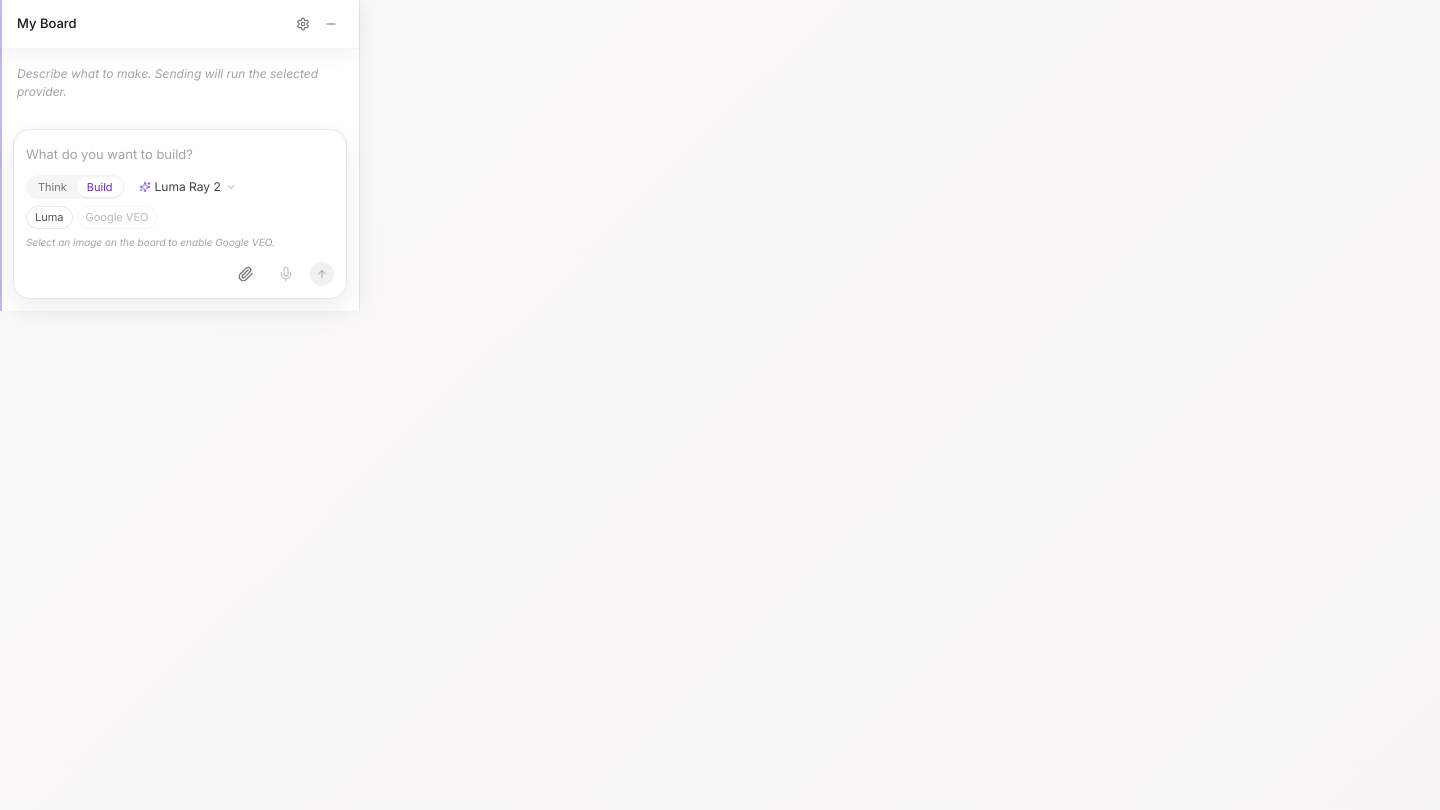
it: ChatPanel chat history cap (owner-only settings) › disables the input and Save button while a save is in flight
Click the button with test id "button-chat-settings" at x=303, y=24, box top-left (291, 12), bottom-right (315, 36)
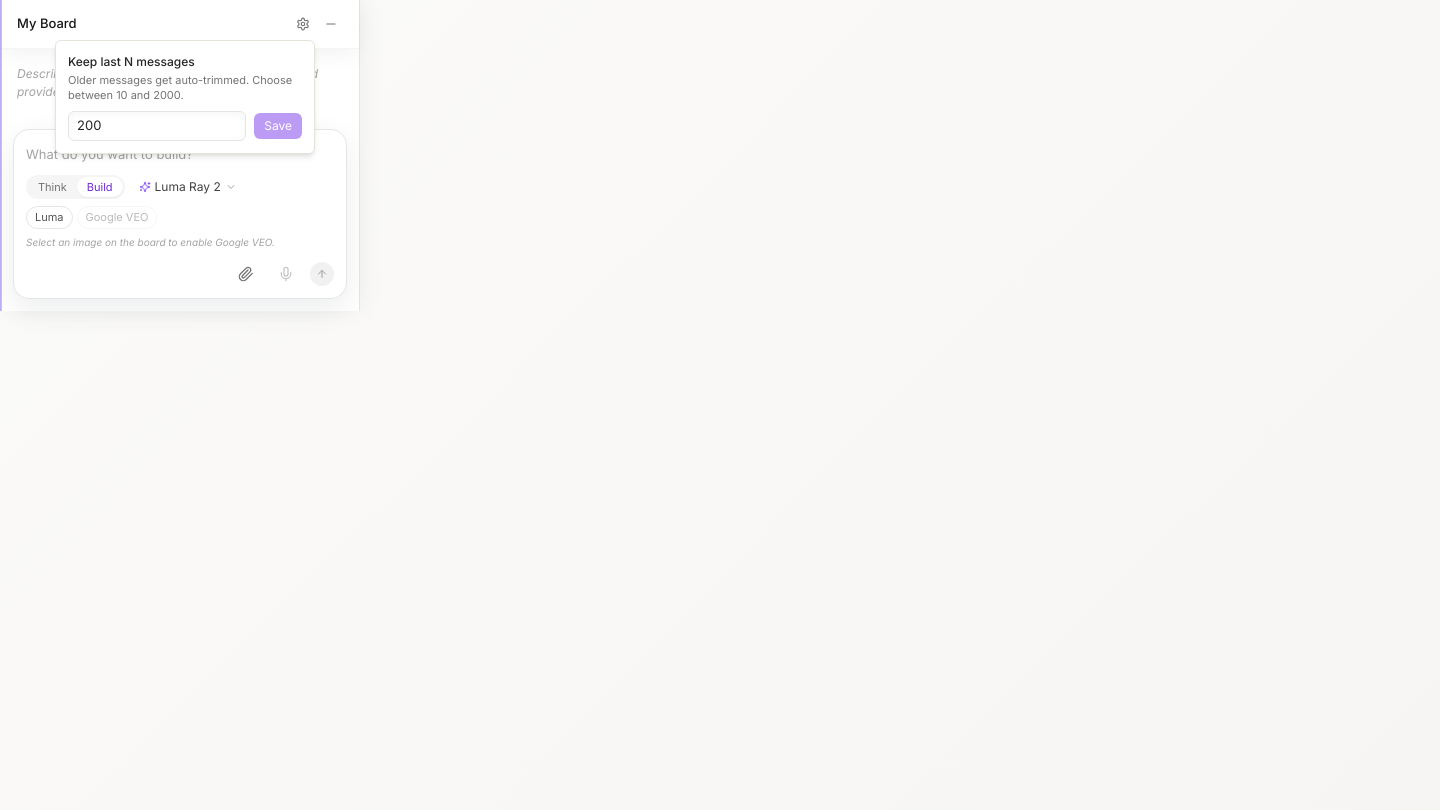
Expected: the number field with test id "input-chat-history-cap" is disabled, top-left (68, 111), bottom-right (246, 141)
Expected: the button with test id "button-save-chat-history-cap" is disabled, top-left (254, 113), bottom-right (302, 139)
